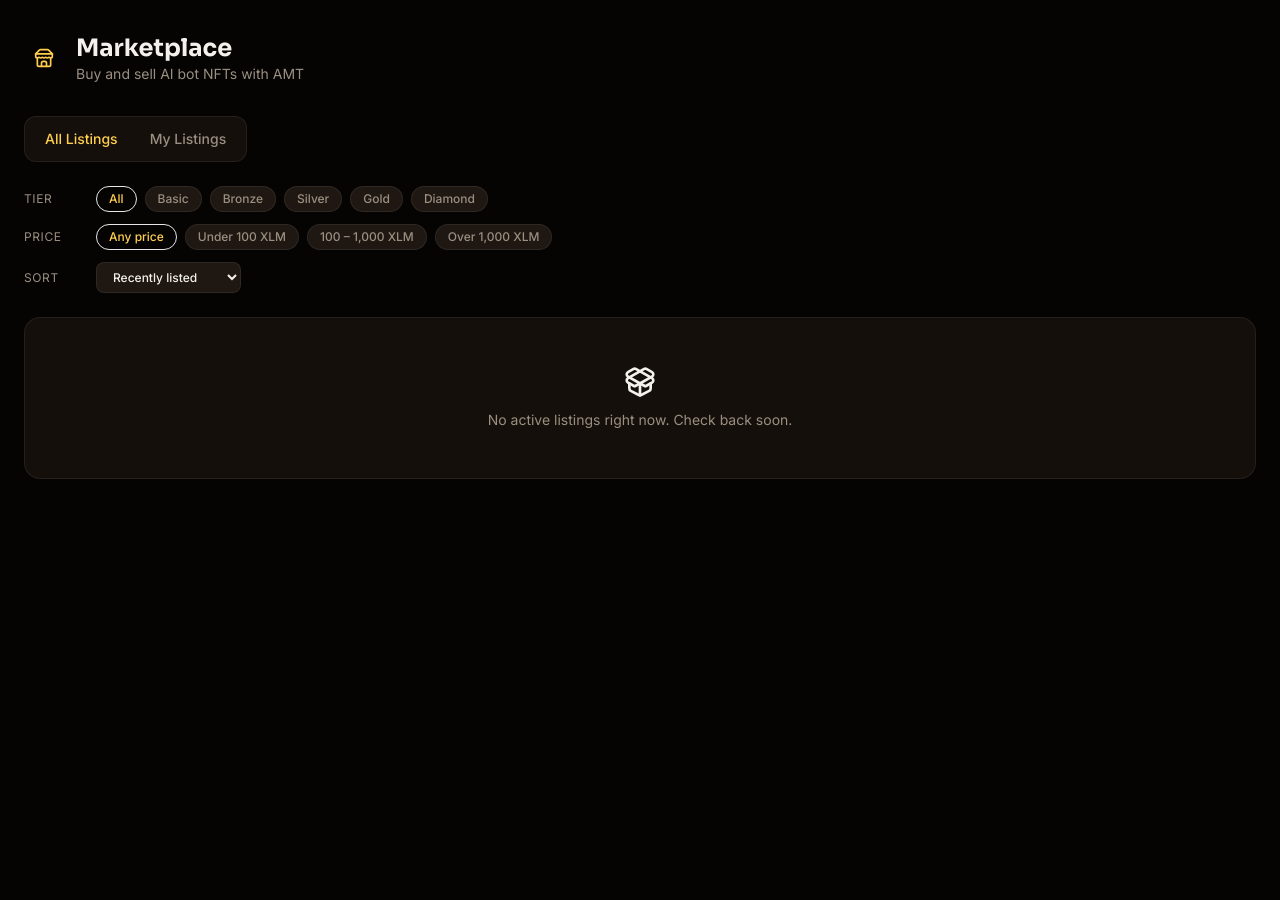
Test: Marketplace Page Integration (#499) › shows an error state for my-listings fetch failures
The width and height of the screenshot is (1280, 900).
Click the tab "My Listings".
click(188, 139)  # box 134,121 -> 242,157
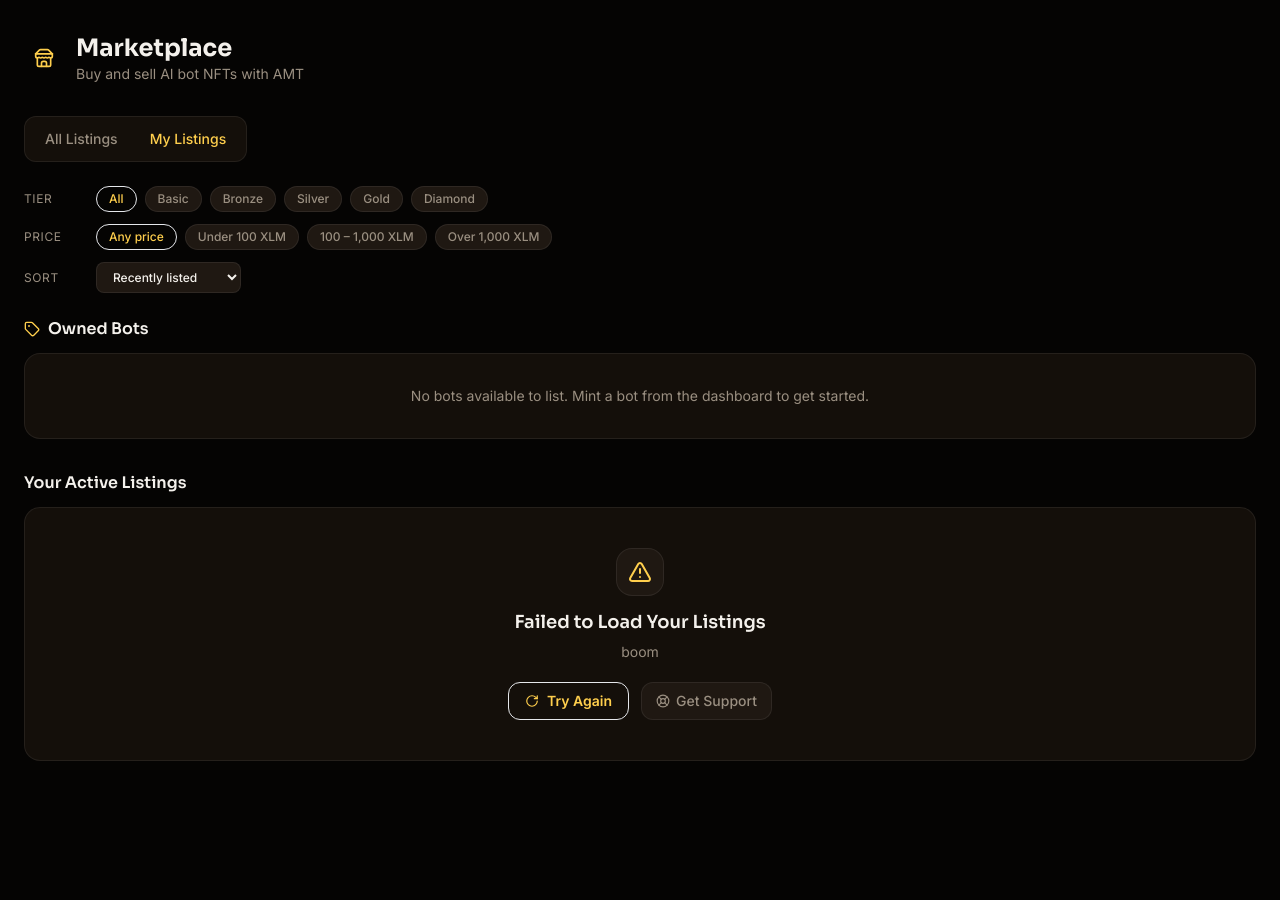
Expected: the message "Failed to Load Your Listings boom Try Again Get Support" is shown, 24,507 -> 1256,761
